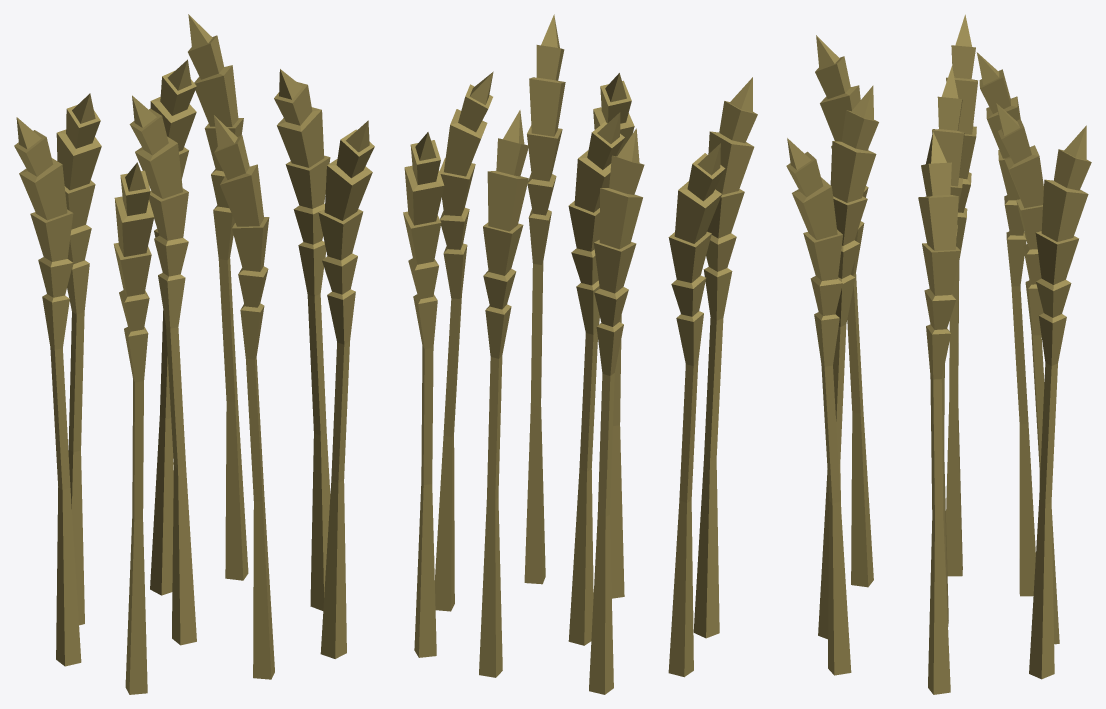
File: Wheat_4.glb
3 renders of one model, left to right at view 1: azimuth 30°, elevation 25°; view 2: azimuth 150°, elevation 25°; view 3: azimuth 270°, elevation 25°, orthographic. The views are drawn at different scales.
Visible parts, largest first — view 1: Wheat_4.008, Wheat_4.001, Wheat_4, Wheat_4.002, Wheat_4.006, Wheat_4.007, Wheat_4.005, Wheat_4.004, Wheat_4.003; view 2: Wheat_4.004, Wheat_4.003, Wheat_4.001, Wheat_4.007, Wheat_4, Wheat_4.008, Wheat_4.005, Wheat_4.002, Wheat_4.006; view 3: Wheat_4.005, Wheat_4.002, Wheat_4.008, Wheat_4.006, Wheat_4.004, Wheat_4.007, Wheat_4.001, Wheat_4.003, Wheat_4.
Boxes of the visible parts, left/top/right/bottom form: Wheat_4.008: left=318, top=120, right=374, bottom=658; Wheat_4.001: left=14, top=117, right=81, bottom=666; Wheat_4: left=129, top=95, right=196, bottom=645; Wheat_4.002: left=274, top=69, right=330, bottom=610; Wheat_4.006: left=214, top=115, right=274, bottom=679; Wheat_4.007: left=113, top=162, right=154, bottom=694; Wheat_4.005: left=188, top=14, right=248, bottom=580; Wheat_4.004: left=56, top=93, right=101, bottom=625; Wheat_4.003: left=150, top=59, right=196, bottom=595; Wheat_4.004: left=589, top=128, right=644, bottom=694; Wheat_4.003: left=479, top=110, right=528, bottom=677; Wheat_4.001: left=668, top=143, right=725, bottom=677; Wheat_4.007: left=693, top=77, right=757, bottom=638; Wheat_4: left=568, top=112, right=624, bottom=645; Wheat_4.008: left=524, top=14, right=565, bottom=584; Wheat_4.005: left=403, top=132, right=444, bottom=657; Wheat_4.002: left=434, top=71, right=493, bottom=611; Wheat_4.006: left=593, top=73, right=634, bottom=598; Wheat_4.005: left=1029, top=125, right=1091, bottom=679; Wheat_4.002: left=918, top=132, right=960, bottom=694; Wheat_4.008: left=786, top=138, right=851, bottom=675; Wheat_4.006: left=818, top=85, right=878, bottom=639; Wheat_4.004: left=976, top=52, right=1035, bottom=596; Wheat_4.007: left=815, top=35, right=873, bottom=587; Wheat_4.001: left=946, top=14, right=977, bottom=576; Wheat_4.003: left=996, top=103, right=1059, bottom=644; Wheat_4: left=932, top=66, right=964, bottom=626.
Bounding box in the file's own units: 0.547 × 0.948 × 0.4893.
